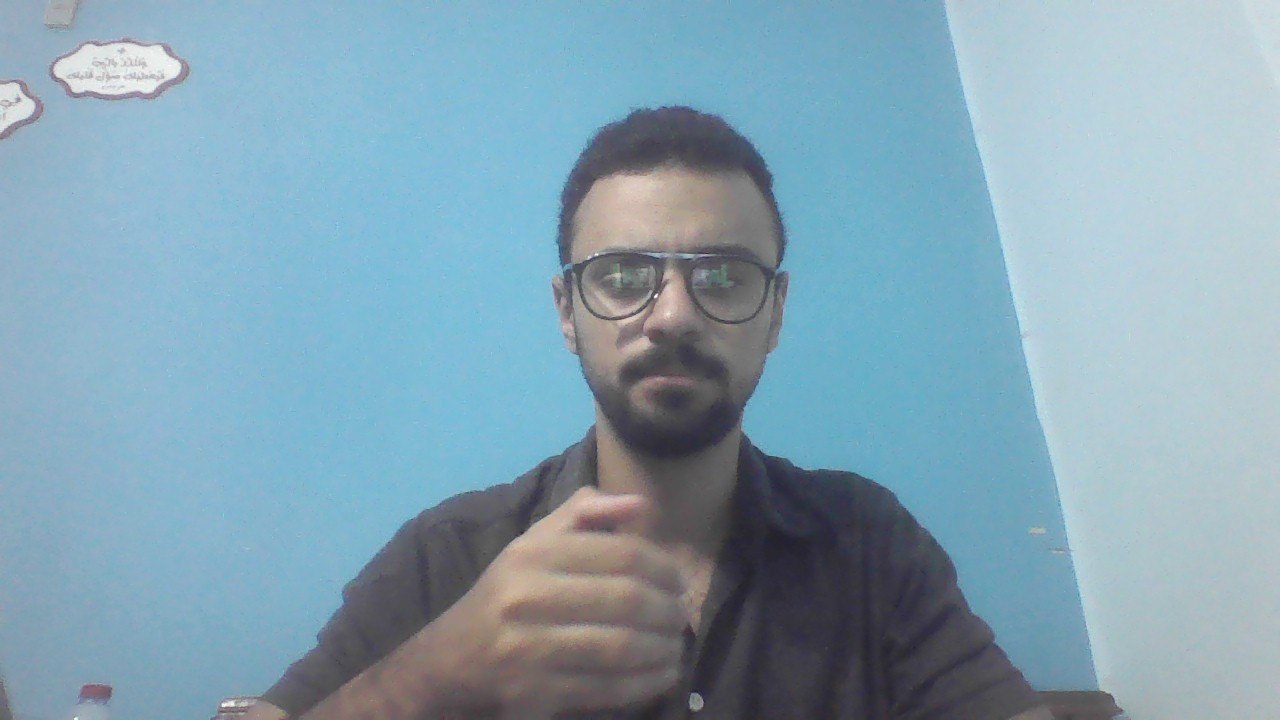drink: (458, 489, 694, 710)
